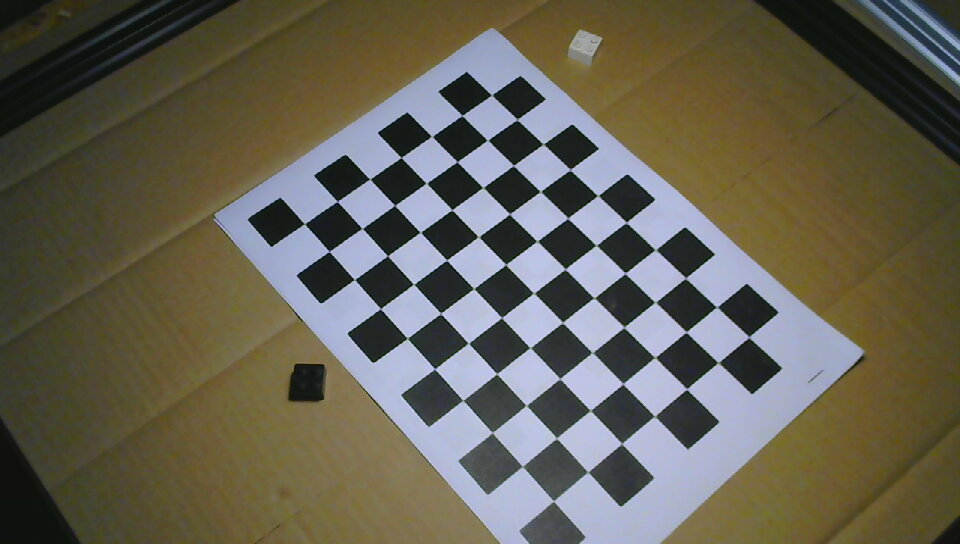bp: (291, 361, 327, 401)
wp: (566, 28, 603, 65)
